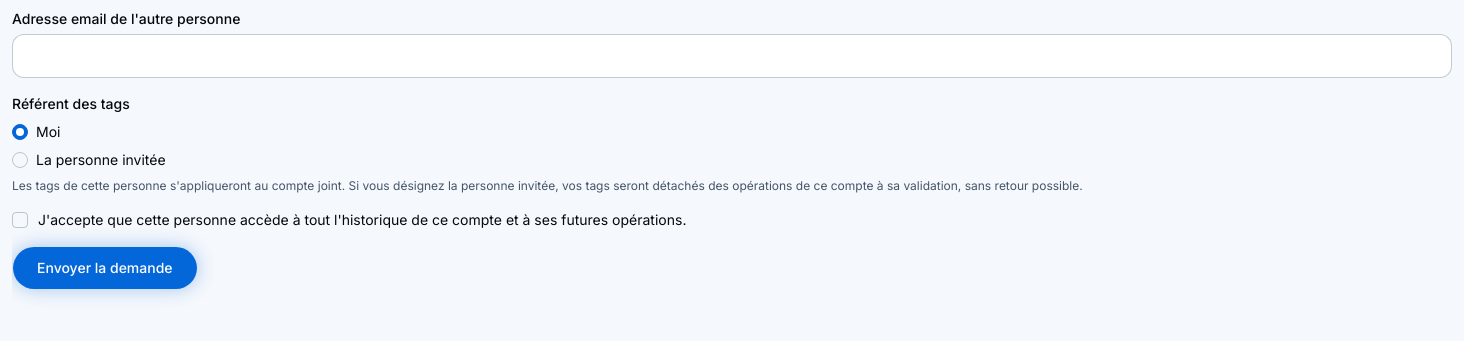
Test case: demande de compte joint › ne transmet aucun accord si la case n'est pas cochée
The image size is (1464, 341).
In the field labelled "Adresse email de l'autre personne": (732, 56) [12,34,1452,78], type "b@x.fr"
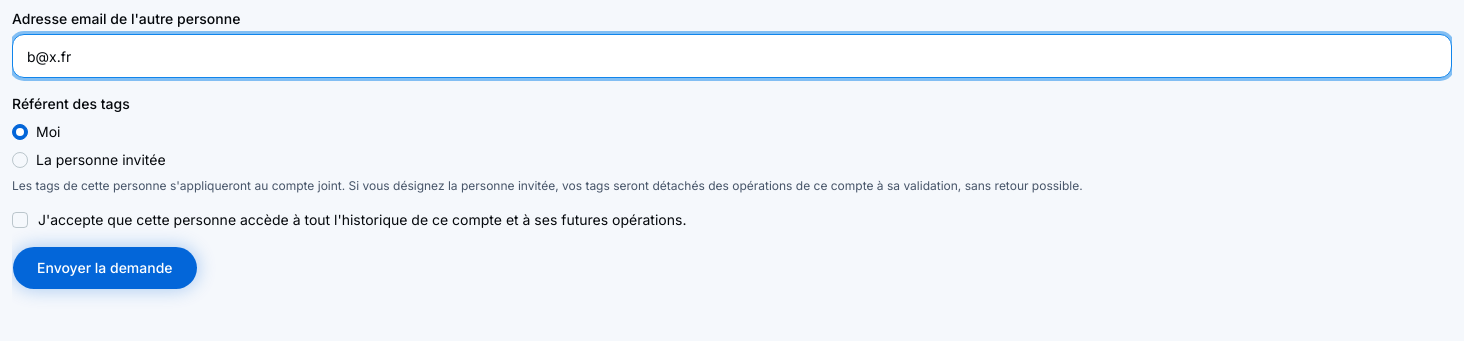
Click the button "Envoyer la demande": (105, 268) [12,246,198,290]
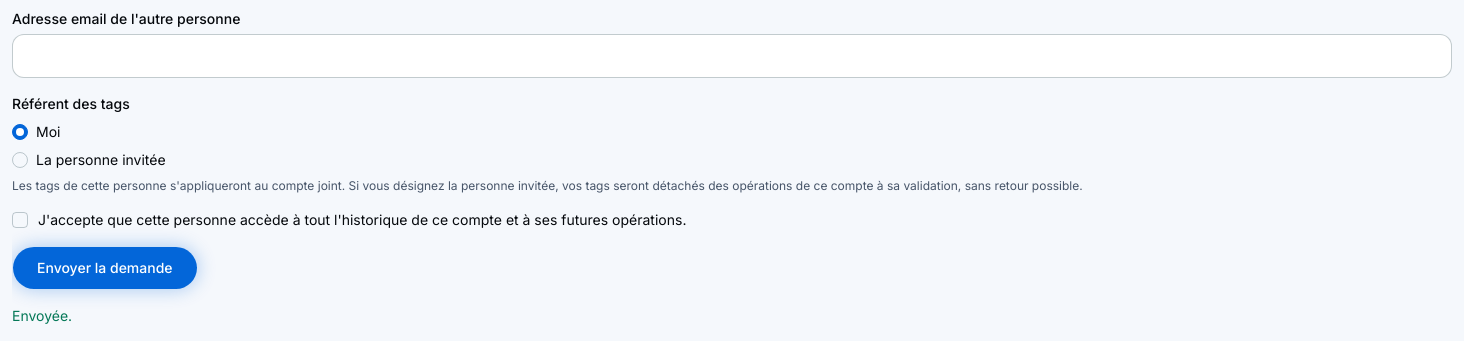
Expected: the text "Envoyée." is shown, [12,307,72,324]
